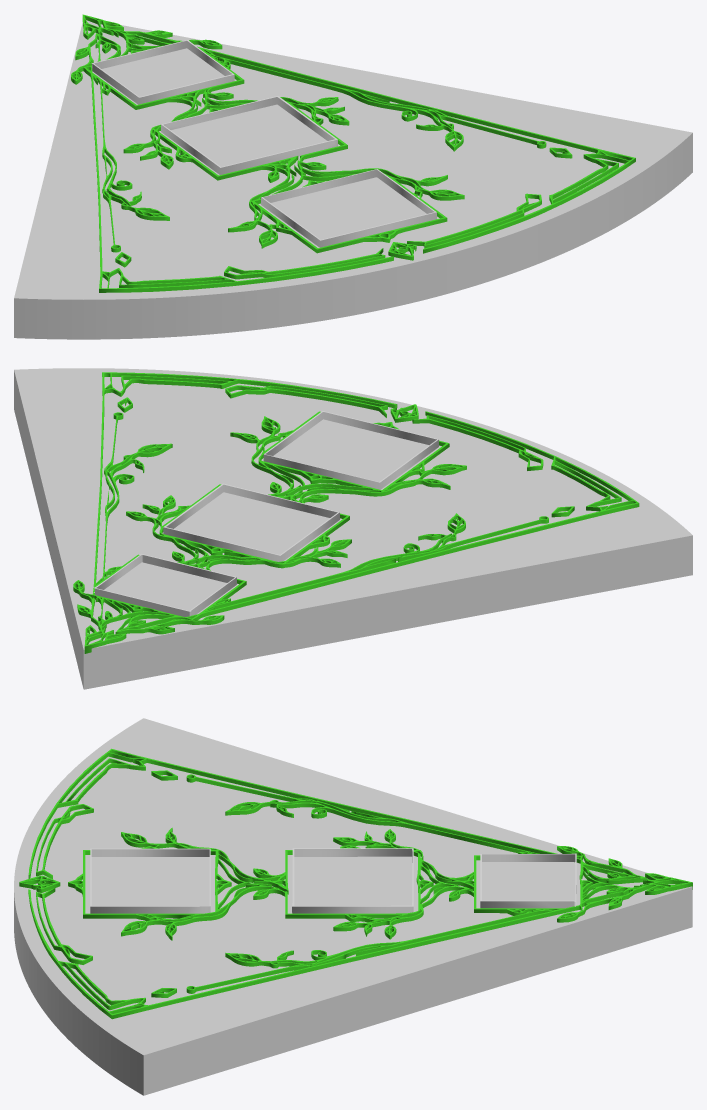
The model's file is floor_ai_guide.glb.
3 views of the same model, one above another, from view 1: azimuth 30°, elevation 25°; view 2: azimuth 150°, elevation 25°; view 3: azimuth 270°, elevation 25° (orthographic).
Parts seen in each view (by area): view 1: VR_PROGRESS_SECTOR_WOOD_BASE, path1, VR_PROGRESS_CARD_WOOD_02, VR_PROGRESS_CARD_WOOD_03, VR_PROGRESS_CARD_WOOD_01; view 2: VR_PROGRESS_SECTOR_WOOD_BASE, path1, VR_PROGRESS_CARD_WOOD_02, VR_PROGRESS_CARD_WOOD_03, VR_PROGRESS_CARD_WOOD_01; view 3: VR_PROGRESS_SECTOR_WOOD_BASE, path1, VR_PROGRESS_CARD_WOOD_02, VR_PROGRESS_CARD_WOOD_03, VR_PROGRESS_CARD_WOOD_01.
Part boxes in pixels (bbox=[...]): VR_PROGRESS_SECTOR_WOOD_BASE: bbox=[14, 20, 692, 339]; path1: bbox=[71, 14, 635, 292]; VR_PROGRESS_CARD_WOOD_02: bbox=[161, 96, 337, 174]; VR_PROGRESS_CARD_WOOD_03: bbox=[261, 169, 436, 247]; VR_PROGRESS_CARD_WOOD_01: bbox=[91, 40, 234, 104]; VR_PROGRESS_SECTOR_WOOD_BASE: bbox=[14, 368, 692, 689]; path1: bbox=[73, 372, 639, 653]; VR_PROGRESS_CARD_WOOD_02: bbox=[163, 483, 339, 561]; VR_PROGRESS_CARD_WOOD_03: bbox=[263, 411, 438, 489]; VR_PROGRESS_CARD_WOOD_01: bbox=[93, 554, 236, 616]; VR_PROGRESS_SECTOR_WOOD_BASE: bbox=[14, 718, 692, 1095]; path1: bbox=[19, 748, 692, 1019]; VR_PROGRESS_CARD_WOOD_02: bbox=[292, 848, 413, 913]; VR_PROGRESS_CARD_WOOD_03: bbox=[90, 848, 210, 913]; VR_PROGRESS_CARD_WOOD_01: bbox=[480, 853, 576, 908].
Size of the model in its own units: 8.93 by 0.6062 by 7.6.
